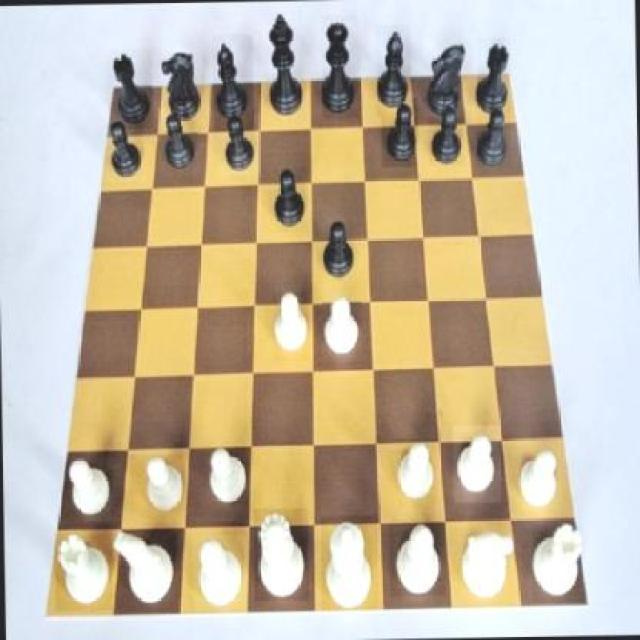bishop: (213, 34, 254, 131), (376, 24, 412, 118)
black-bishop: (264, 11, 306, 115)
black-king: (160, 44, 203, 124), (426, 38, 466, 118)
black-knight: (158, 108, 200, 177), (320, 217, 360, 288), (218, 114, 261, 177), (380, 97, 418, 167), (477, 100, 512, 169), (105, 125, 147, 182), (429, 101, 465, 166), (274, 168, 308, 232)
black-pawn: (320, 14, 360, 118)
black-queen: (106, 49, 153, 130), (477, 37, 511, 123)
black-rook: (390, 519, 446, 596), (192, 536, 248, 612)
white-bishop: (320, 514, 378, 611)
white-king: (112, 526, 176, 611), (454, 524, 521, 604)
white-knight: (452, 425, 500, 502), (512, 442, 562, 514), (65, 451, 112, 521), (131, 454, 186, 513), (203, 446, 248, 514), (323, 289, 363, 360), (396, 437, 434, 508), (272, 291, 308, 361)
white-pawn: (254, 508, 309, 600)
white-queen: (54, 530, 113, 612), (532, 524, 586, 604)
